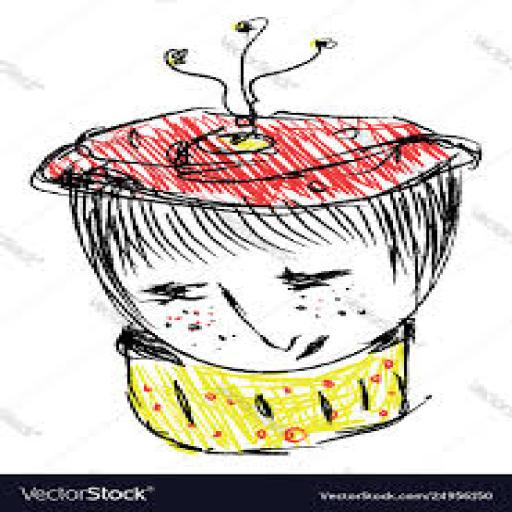person: (28, 11, 485, 456)
